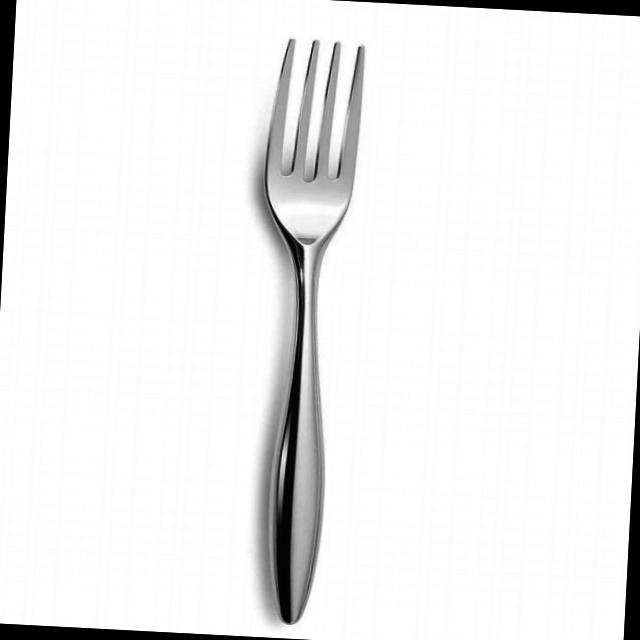fork: (239, 30, 371, 628)
